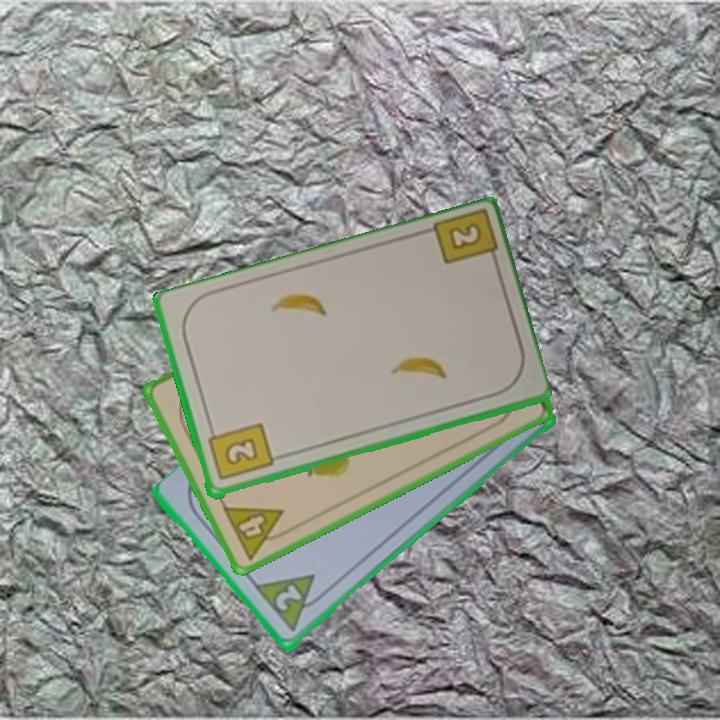2b: (427, 208, 502, 272), (204, 419, 276, 484)
2p: (271, 582, 305, 615)
4p: (219, 502, 295, 563)
